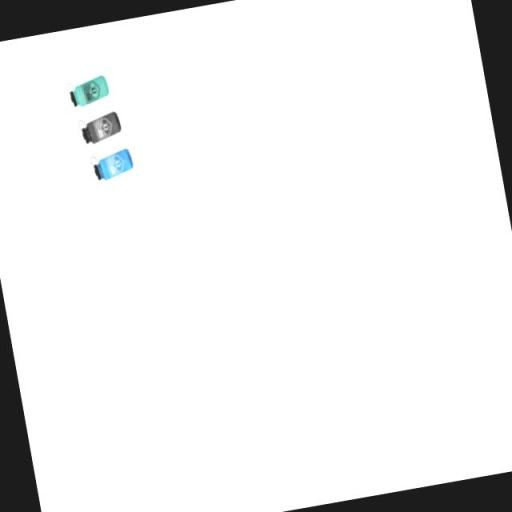bottle: (62, 70, 114, 112), (76, 109, 124, 147), (89, 147, 136, 183)
